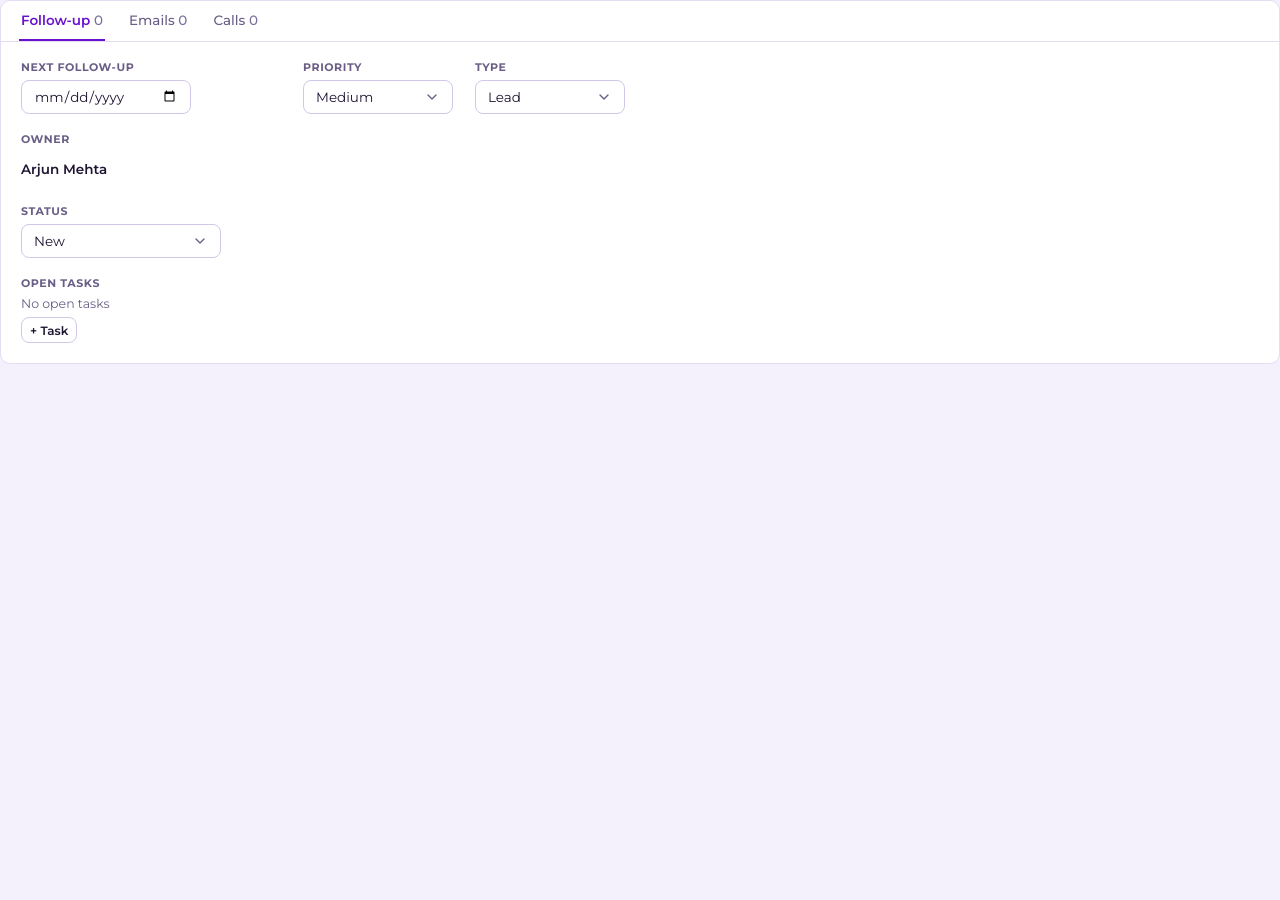
Test: FollowUpPanel › picking Lost in Status opens Close lead with Lost chosen
Select "Lost" in the dropdown labelled "Status" at (121, 241), box [21, 224, 221, 258]
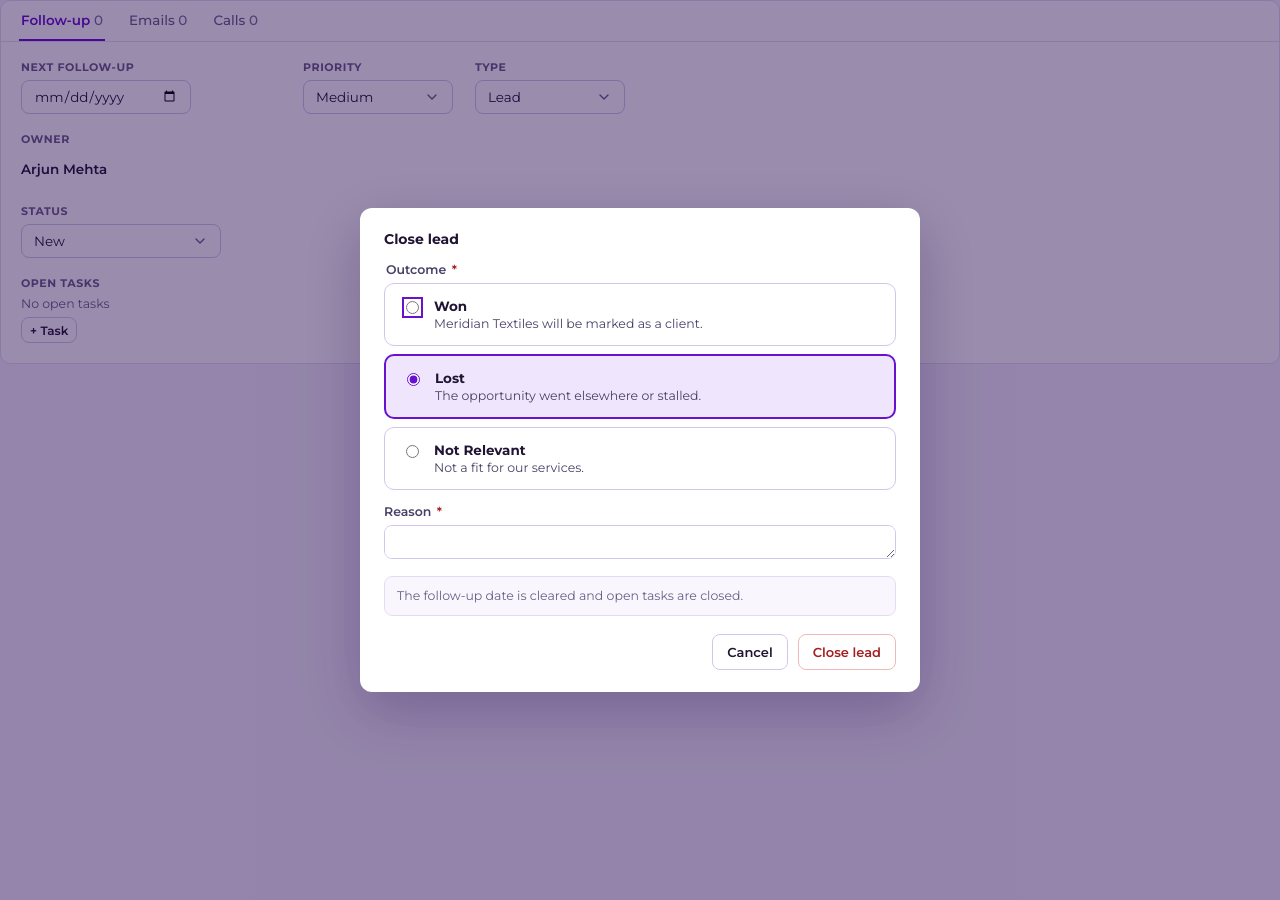
expect the radio button labelled "Lost The opportunity went elsewhere or stalled." is checked: met, box [407, 373, 420, 386]
